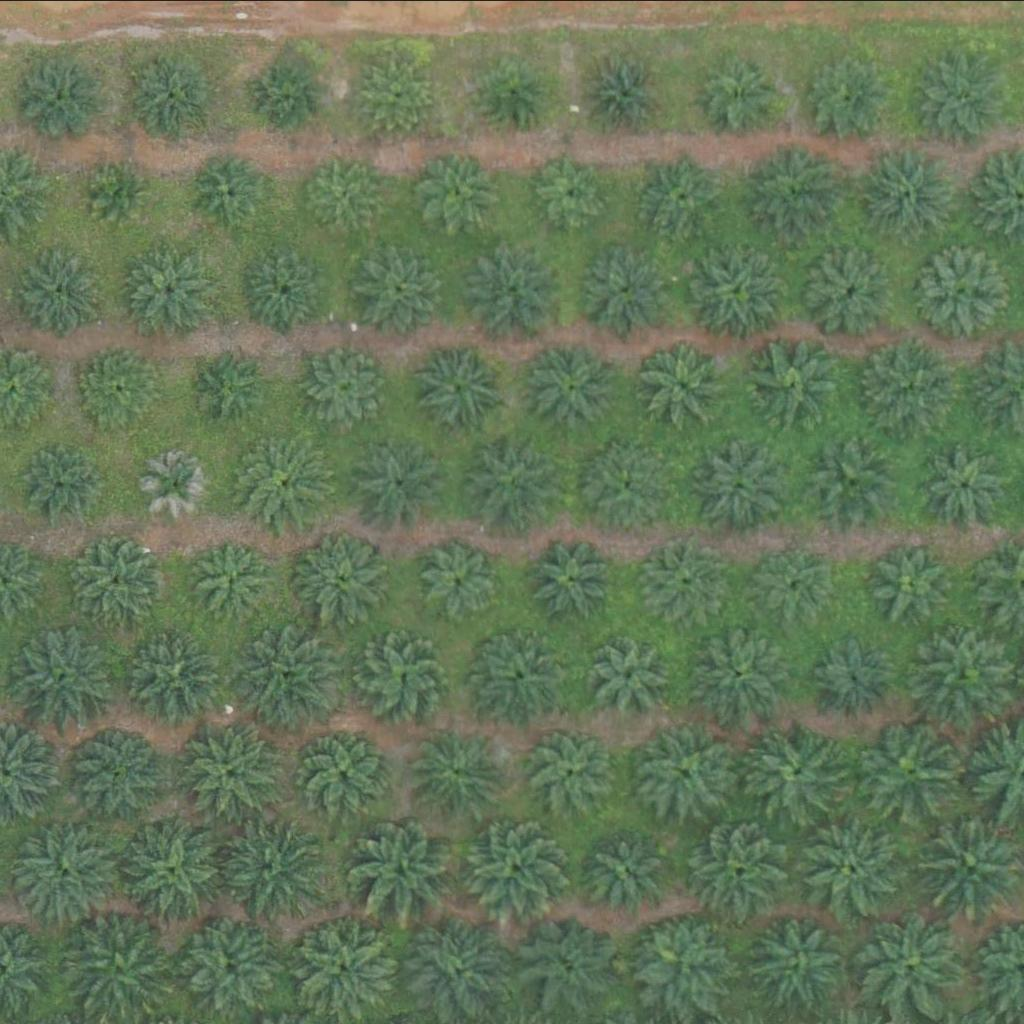Kelapa_Sawit: (60, 905, 174, 1018), (117, 813, 231, 926), (216, 805, 330, 918), (7, 618, 120, 731), (348, 811, 461, 924), (458, 809, 571, 922), (10, 816, 124, 928), (232, 619, 346, 731), (855, 906, 968, 1018), (794, 811, 907, 923), (179, 911, 280, 1011), (123, 625, 224, 725), (232, 427, 333, 527), (466, 244, 567, 344), (297, 339, 398, 439), (407, 339, 508, 439), (347, 433, 448, 533), (688, 620, 789, 720), (407, 722, 508, 822), (635, 721, 736, 821), (752, 721, 853, 821), (689, 817, 790, 917), (294, 918, 395, 1018), (406, 921, 507, 1021), (522, 912, 623, 1012), (632, 911, 733, 1011), (746, 914, 847, 1014), (800, 430, 901, 530), (853, 335, 954, 435), (913, 239, 1014, 339), (858, 137, 959, 237), (67, 721, 167, 821), (184, 719, 284, 819), (747, 141, 847, 241), (686, 241, 786, 341), (743, 335, 843, 435), (463, 430, 563, 530), (690, 435, 790, 535), (291, 525, 391, 625), (353, 626, 453, 726), (469, 622, 569, 722), (294, 722, 394, 822), (856, 720, 956, 820), (916, 622, 1016, 722), (77, 343, 166, 431), (244, 241, 333, 329), (809, 245, 898, 333), (184, 342, 272, 430), (702, 51, 790, 139), (19, 52, 107, 140), (130, 51, 218, 139), (639, 148, 727, 236), (358, 246, 446, 334), (583, 247, 671, 335), (420, 534, 508, 622), (584, 825, 672, 913), (923, 440, 1011, 528), (411, 151, 499, 238), (583, 48, 671, 135), (77, 534, 165, 621), (20, 246, 108, 333), (130, 245, 218, 332), (531, 343, 619, 430), (642, 340, 730, 427), (591, 440, 679, 527), (583, 628, 671, 715), (527, 726, 615, 813), (803, 52, 891, 139), (918, 52, 1006, 139), (194, 540, 270, 615), (537, 538, 613, 613), (648, 540, 724, 615), (818, 637, 894, 712), (871, 543, 947, 618), (195, 150, 270, 225), (537, 152, 612, 227), (358, 60, 433, 135), (250, 53, 325, 128), (27, 446, 102, 521), (141, 444, 216, 519), (306, 158, 381, 233), (763, 548, 838, 623), (481, 67, 544, 130), (90, 160, 153, 223)
